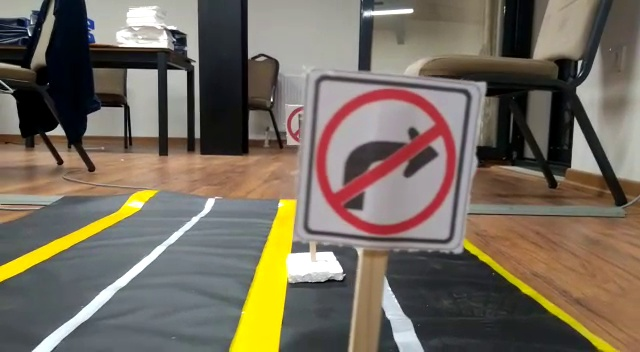saga_donulmez: (321, 83, 460, 240)
